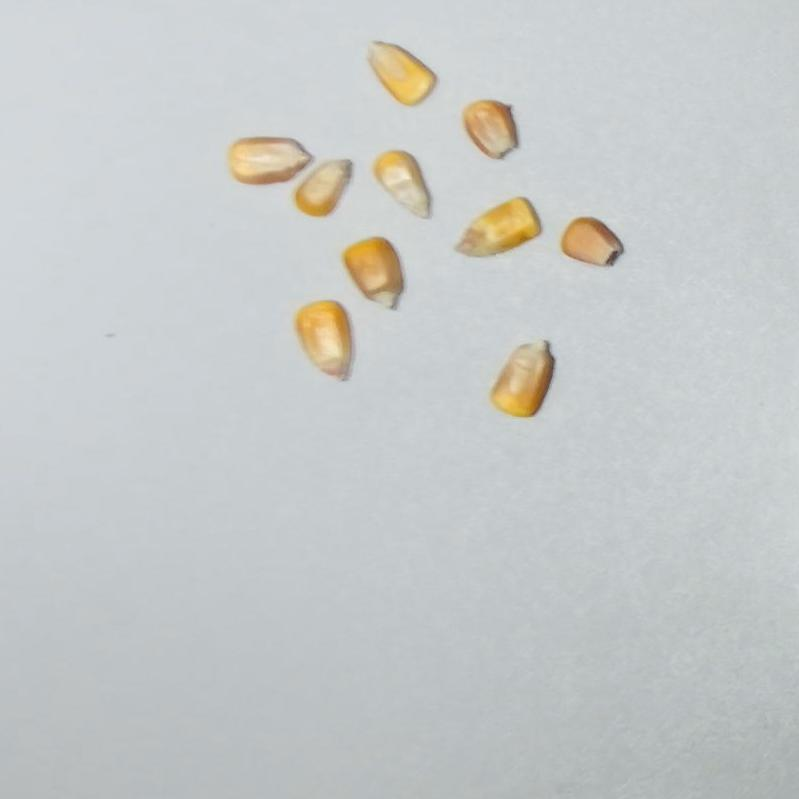corn: (446, 191, 547, 273), (350, 25, 442, 114), (485, 327, 565, 426), (337, 228, 419, 318), (366, 141, 447, 230), (289, 145, 355, 225), (293, 298, 354, 383), (456, 91, 524, 167), (555, 209, 632, 276), (226, 136, 312, 186)
